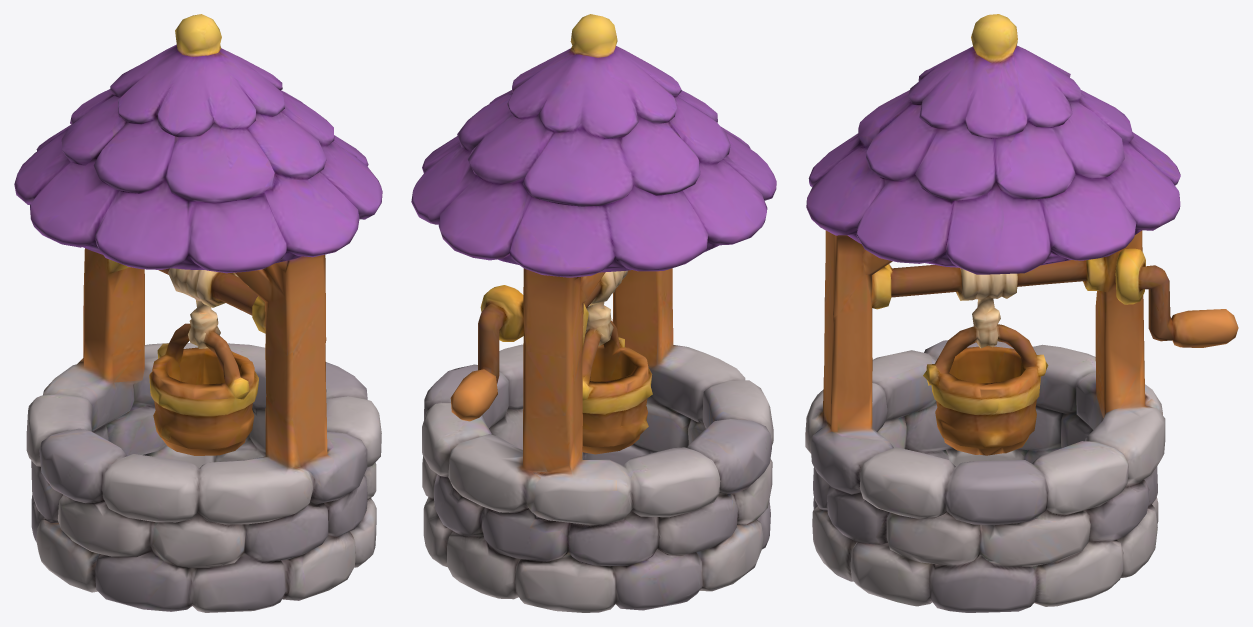
The model's file is prop_well.glb.
The picture shows the model from 3 angles, left to right: view 1: azimuth 30°, elevation 25°; view 2: azimuth 150°, elevation 25°; view 3: azimuth 270°, elevation 25°; orthographic projection.
Parts seen in each view (by area): view 1: tripo_node_3e7e061f-a162-4421-be8d-95fa935594bb; view 2: tripo_node_3e7e061f-a162-4421-be8d-95fa935594bb; view 3: tripo_node_3e7e061f-a162-4421-be8d-95fa935594bb.
Part boxes in pixels (bbox=[...]): tripo_node_3e7e061f-a162-4421-be8d-95fa935594bb: bbox=[14, 14, 382, 612]; tripo_node_3e7e061f-a162-4421-be8d-95fa935594bb: bbox=[411, 14, 776, 612]; tripo_node_3e7e061f-a162-4421-be8d-95fa935594bb: bbox=[805, 14, 1238, 612].
Bounding box in the file's own units: 0.629 × 1 × 0.7428.
1 material, 1 textured.
